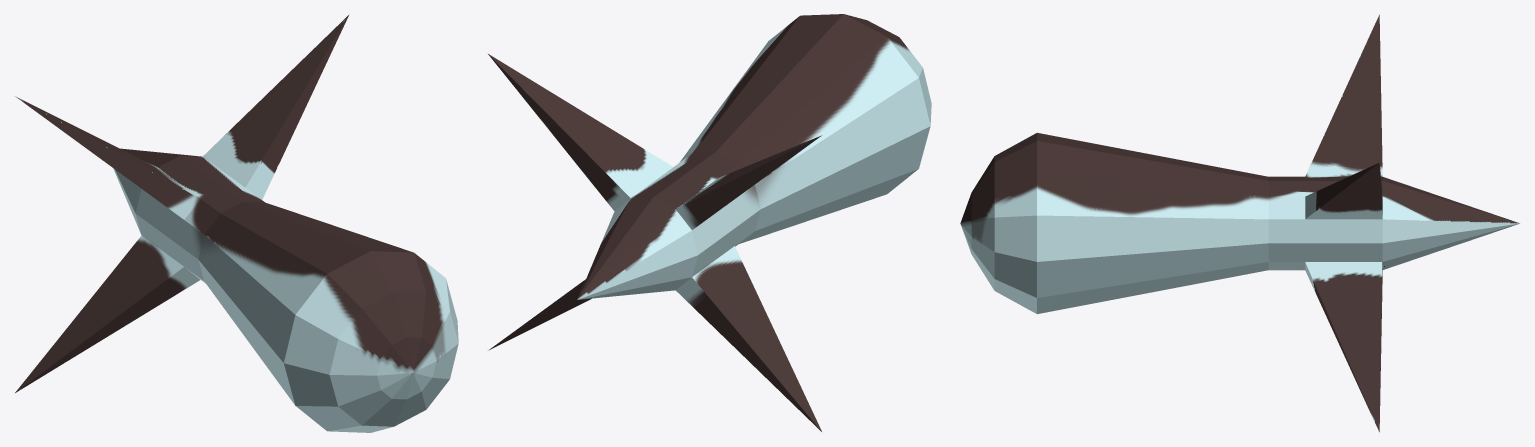
File: ReaperTail.glb
3 renders of one model, left to right at view 1: azimuth 30°, elevation 25°; view 2: azimuth 150°, elevation 25°; view 3: azimuth 270°, elevation 25°, orthographic. The views are drawn at different scales.
Parts seen in each view (by area): view 1: ReaperTail; view 2: ReaperTail; view 3: ReaperTail.
Part boxes in pixels (x1,y1,x2,y2): ReaperTail: (15, 15, 458, 432); ReaperTail: (488, 14, 931, 431); ReaperTail: (960, 14, 1520, 432).
Bounding box in the file's own units: 6.95 × 5.9 × 11.07.
Materials: 1 (1 with a texture image).
